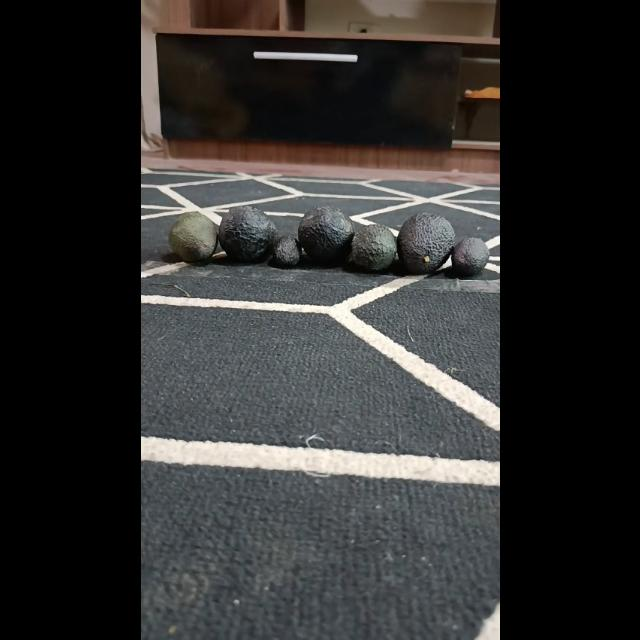Primera: (397, 212, 457, 274), (218, 204, 276, 262), (298, 204, 354, 264)
Segunda: (166, 211, 218, 263), (348, 224, 396, 272)
Tercera: (449, 236, 488, 278), (268, 235, 302, 268)
